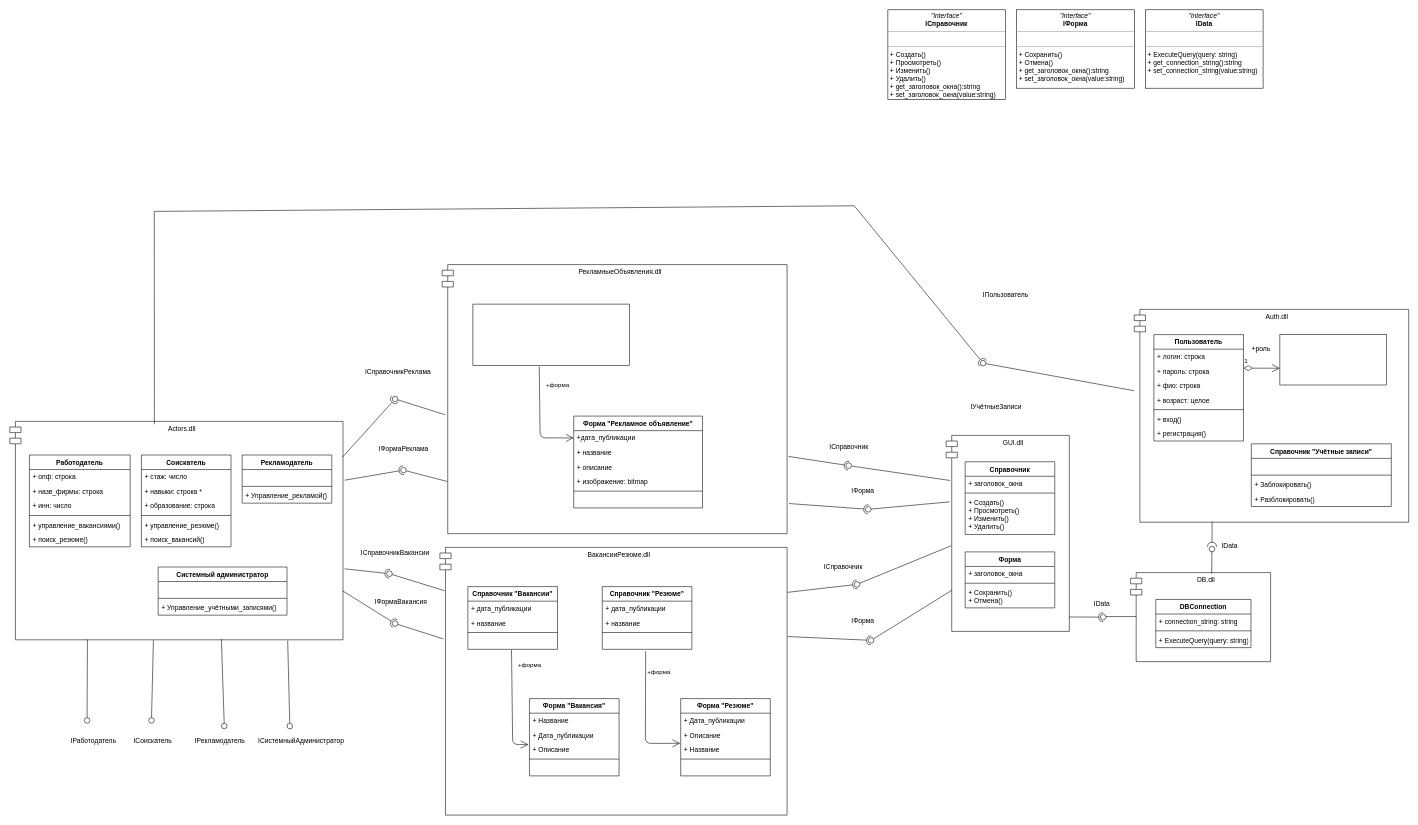
Some shapes in this 1418 by 825 pixel diagram are drawn without their labels. The shapes that lost their labels are listed below. From the top down, each one's centre as x and y in pixels, then its label:
the point at 551,335: Справочник "Рекламные объявления" + дата_публикации + название
the point at 1332,359: "abstract" Роль + выход()
